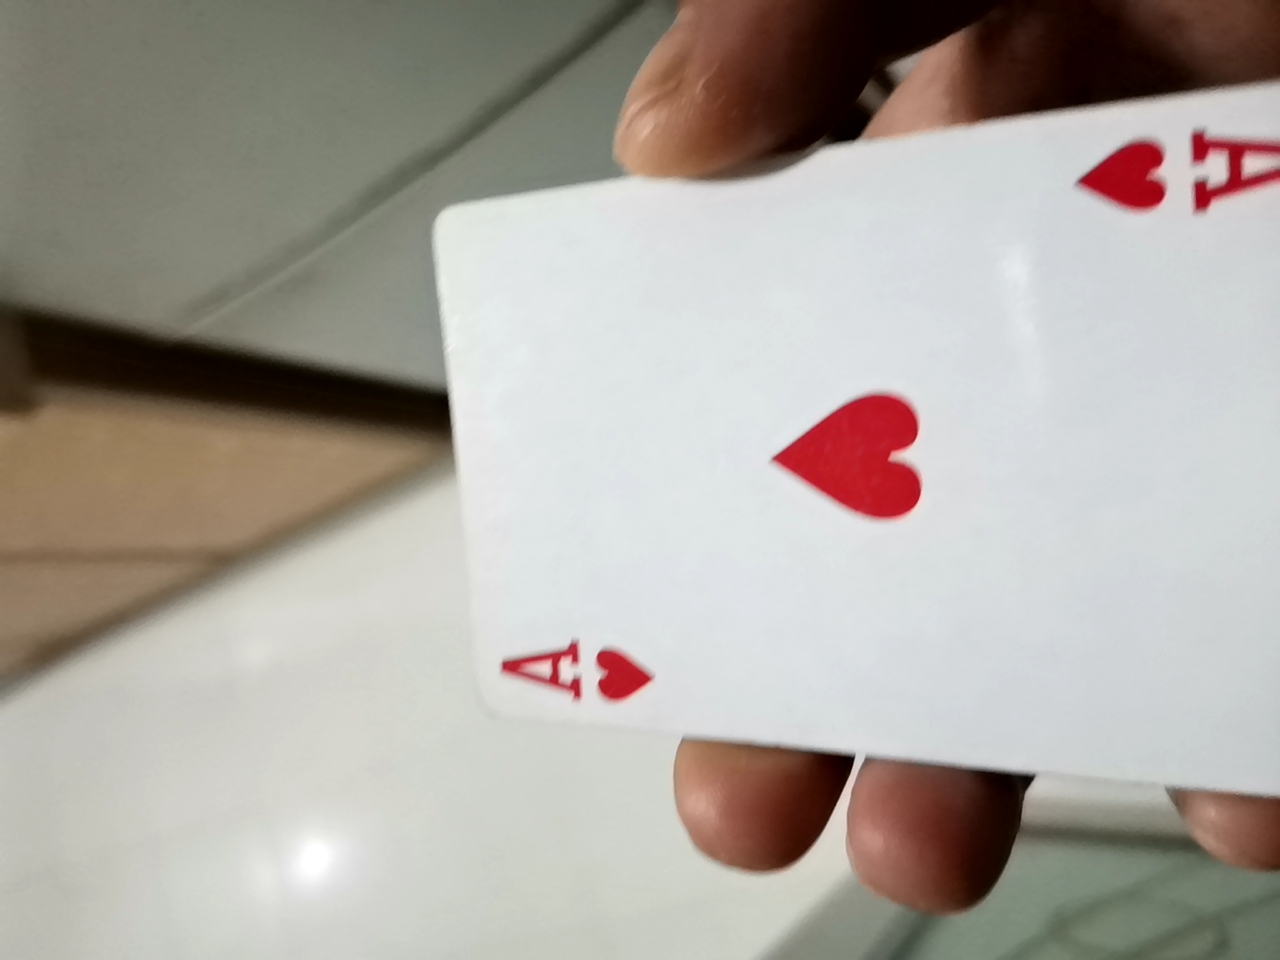hx a: (360, 123, 1275, 864)
